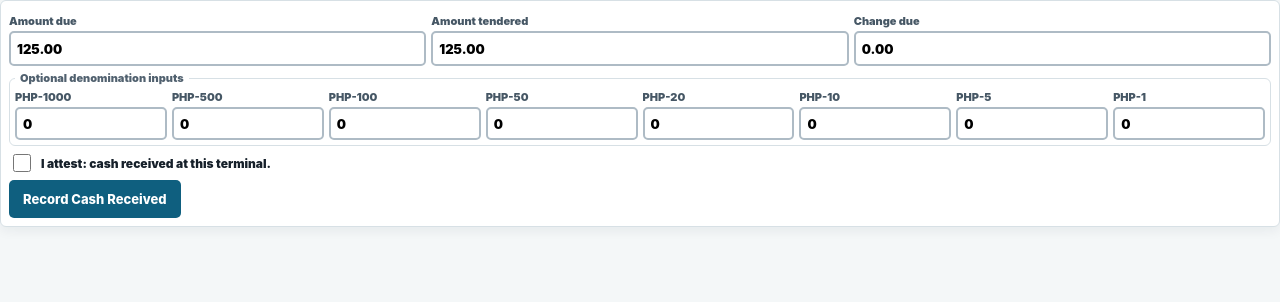
Test: CashCapturePanel › records CASH_RECEIVED exactly once through the irreversible command
Replace the text in the field labelled "Amount tendered" with "150": (640, 48) [431, 31, 849, 66]
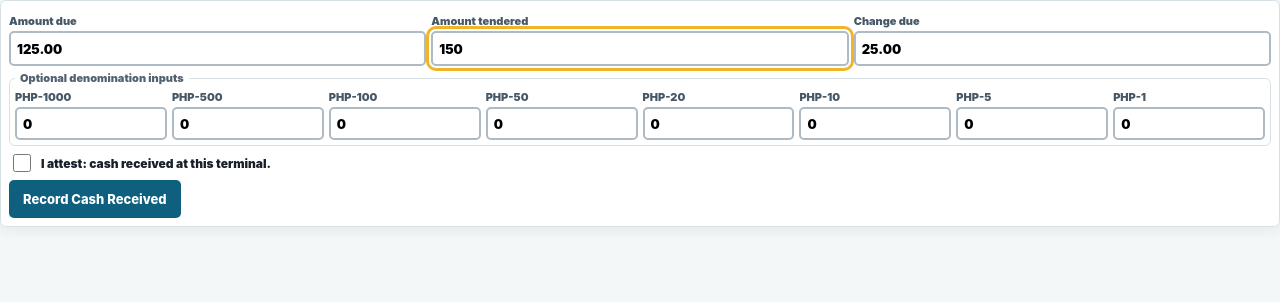
Click the checkbox labelled "I attest: cash received at this terminal.": (22, 163) [13, 154, 31, 172]
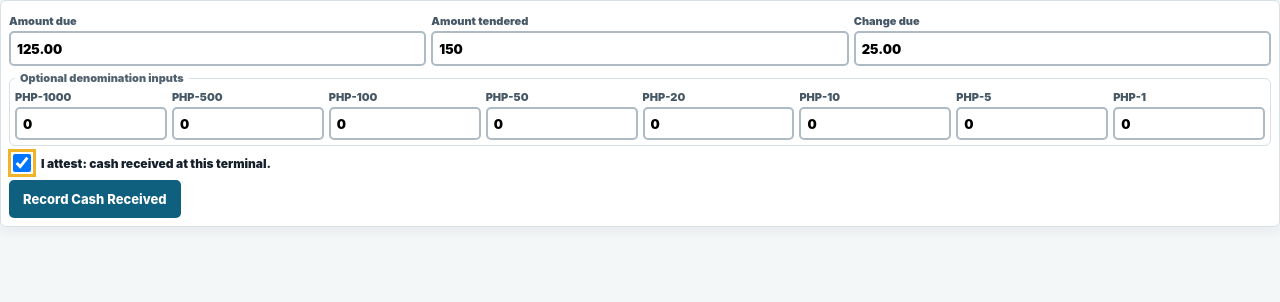
Click the button "Record Cash Received": (95, 199) [9, 180, 180, 218]
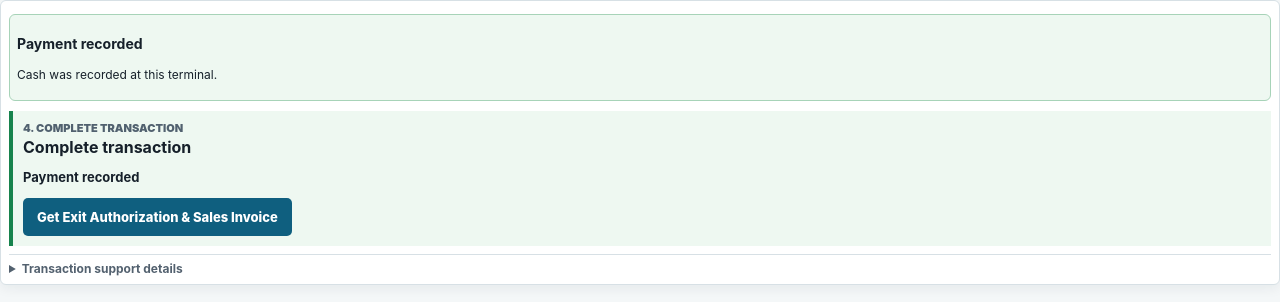
Check: the heading "Payment recorded" is shown, box [17, 35, 143, 52]
